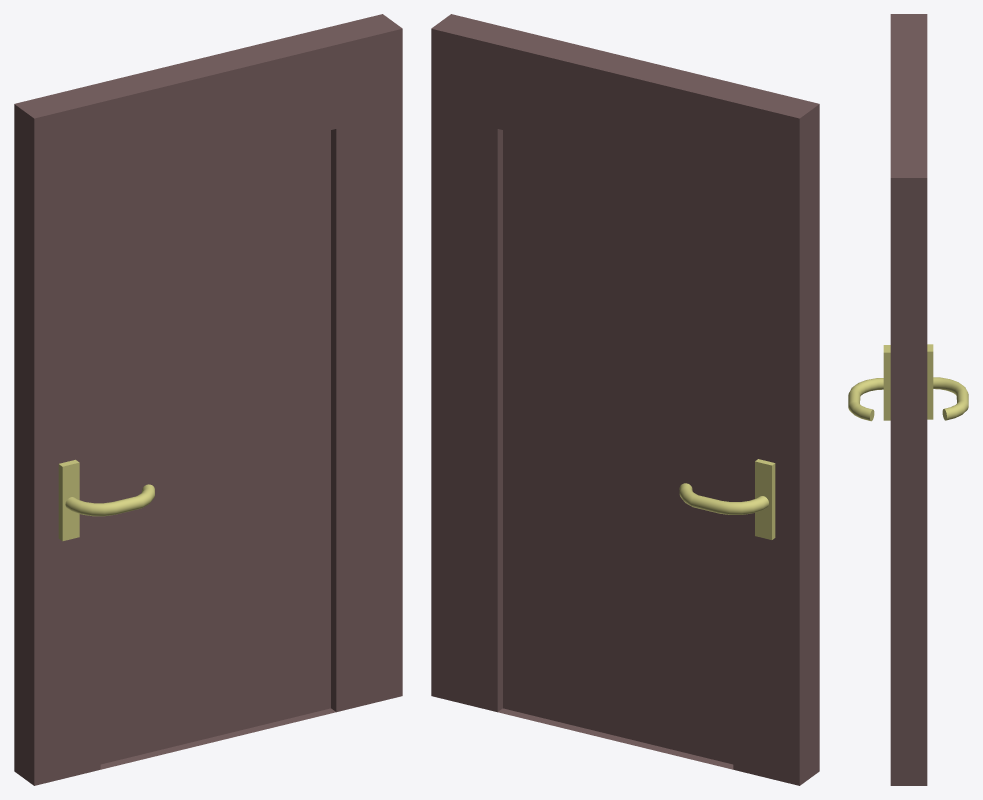
The model's file is HospitalDoor.fbx.
The picture shows the model from 3 angles, left to right: view 1: azimuth 30°, elevation 25°; view 2: azimuth 150°, elevation 25°; view 3: azimuth 270°, elevation 25°; orthographic projection. The views are drawn at different scales.
Visible parts, largest first — view 1: polySurface80; view 2: polySurface80; view 3: polySurface80.
Part boxes in pixels (left/top/right/bottom): polySurface80: left=14, top=14, right=402, bottom=785; polySurface80: left=431, top=14, right=819, bottom=785; polySurface80: left=848, top=14, right=968, bottom=785.
Bounding box in the file's own units: 258 × 447 × 80.18.
